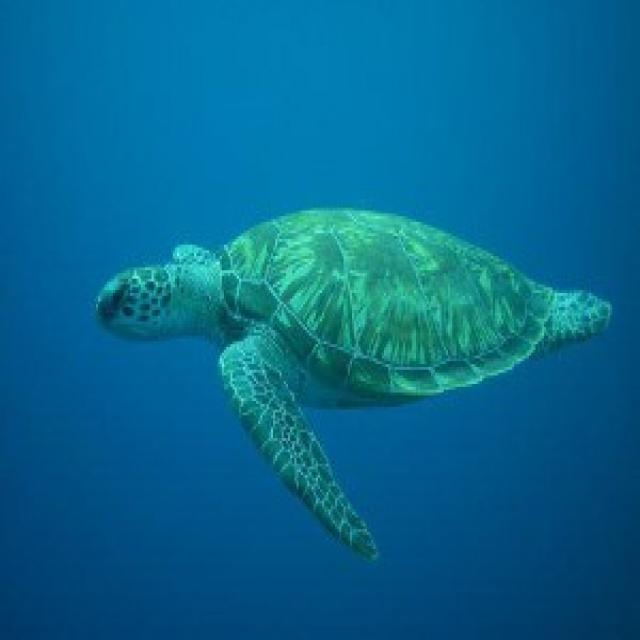Sea turtle: (80, 186, 615, 559)
